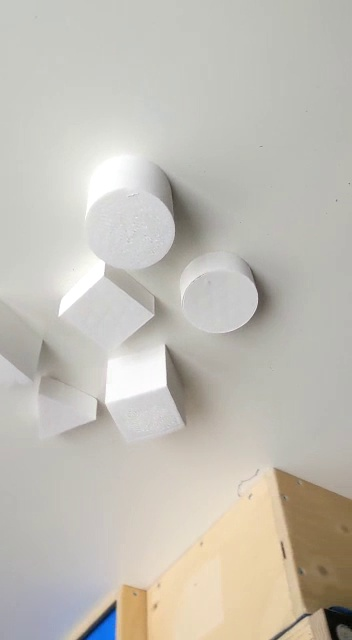Clyinder_short: (175, 250, 259, 335)
Cube: (99, 340, 191, 443)
Cube_short: (53, 254, 160, 359)
Cylinder: (80, 152, 180, 272)
Triangle: (1, 294, 50, 387)
Triangle_short: (30, 369, 101, 448)
